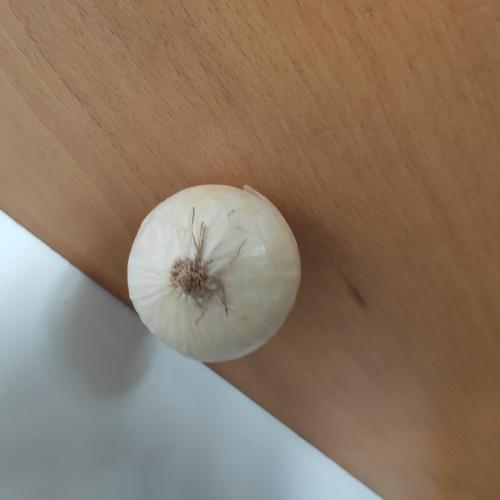cipolla: (122, 175, 314, 367)
